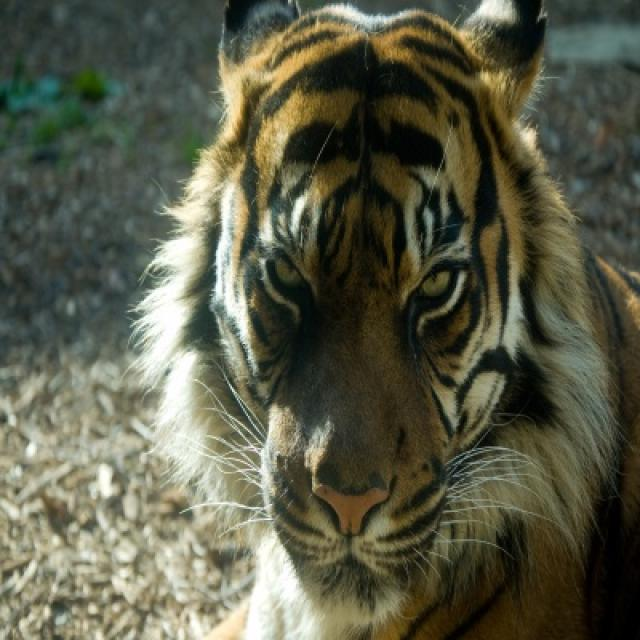Tiger: (145, 0, 638, 638)
